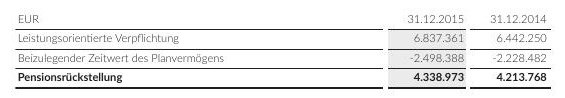table: (0, 0, 565, 98)
